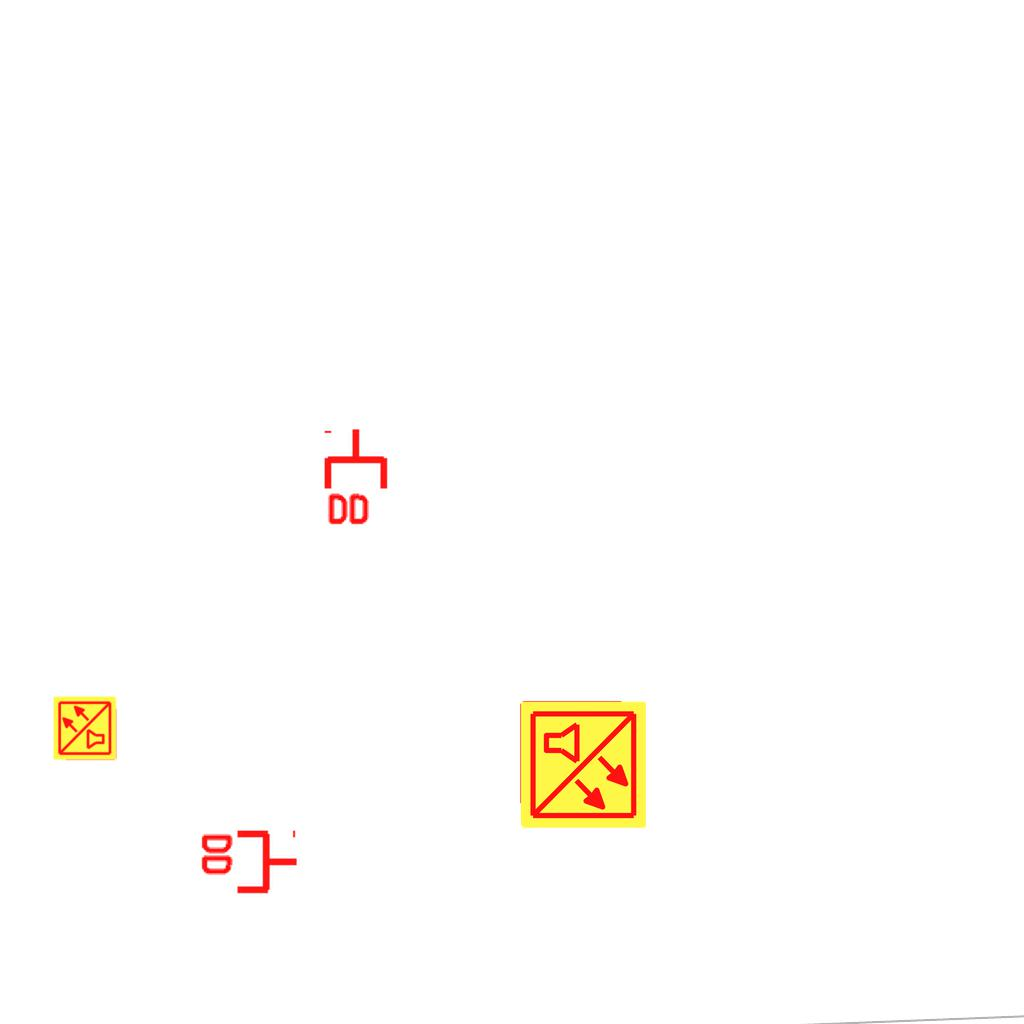Datenanschluss_zweifach: (323, 426, 392, 529), (197, 829, 300, 898)
OKW_Multisensormelder_(Kombination_optischer_Rauch-Kahlenmonoxid_Waerme-Melder): (517, 699, 649, 831), (52, 695, 118, 761)
